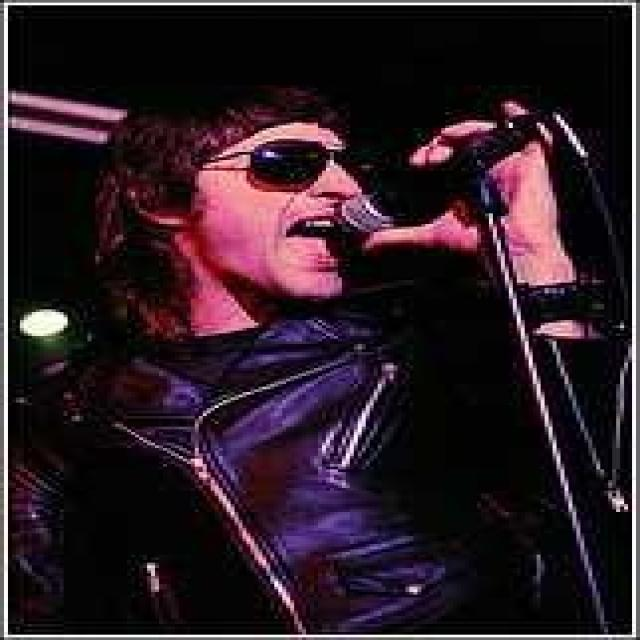microphone: (330, 101, 564, 240)
